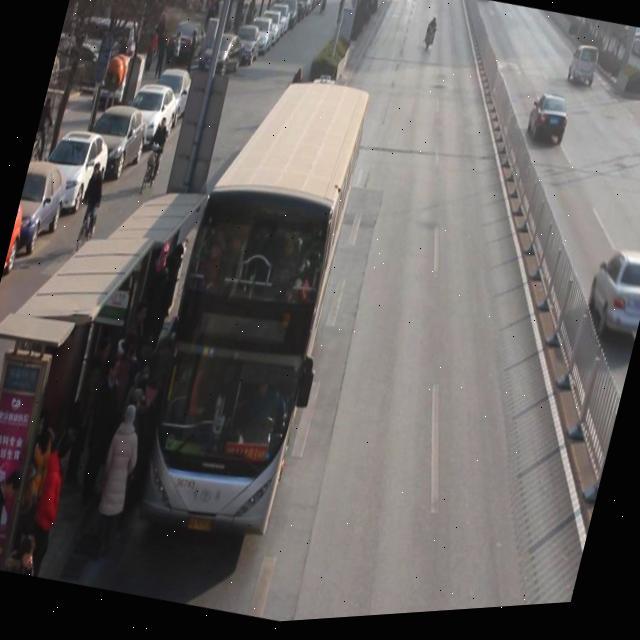car: (579, 254, 640, 355), (522, 97, 572, 158)
truck: (564, 47, 602, 97)
van: (124, 60, 374, 549)
